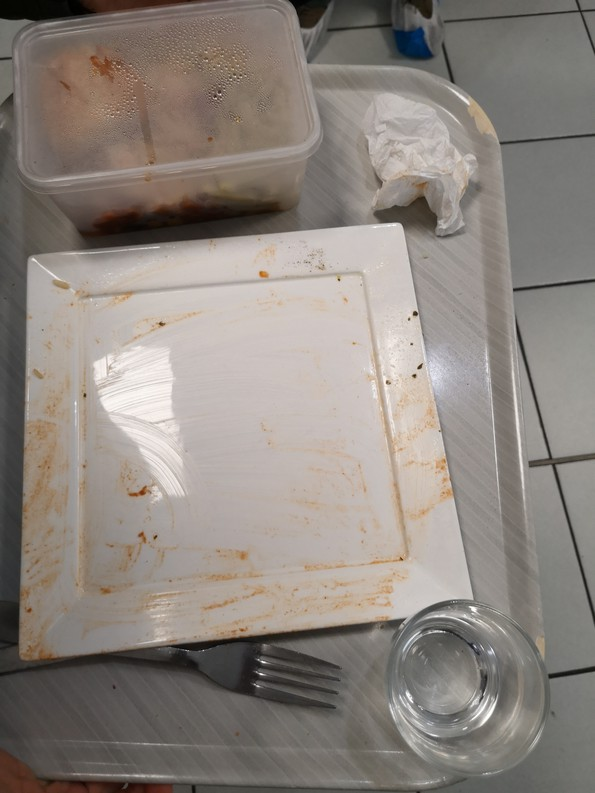cup: (384, 589, 570, 793)
cutlery: (1, 604, 359, 713)
trash: (370, 108, 472, 230)
